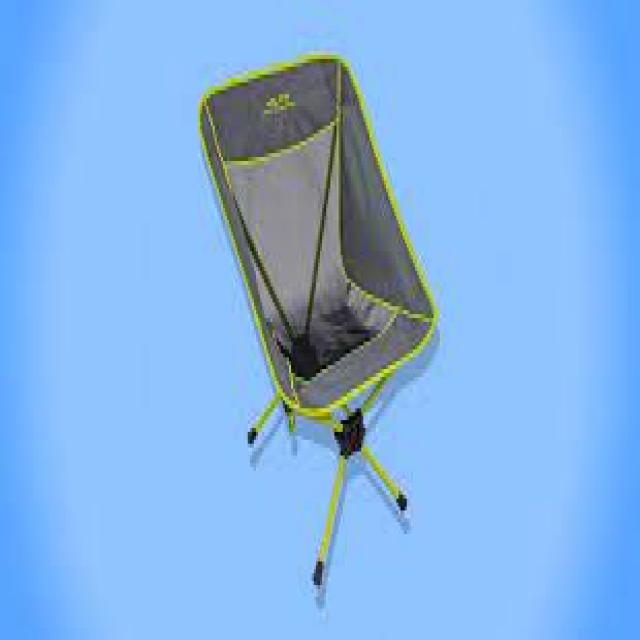chair: (131, 5, 483, 628)
